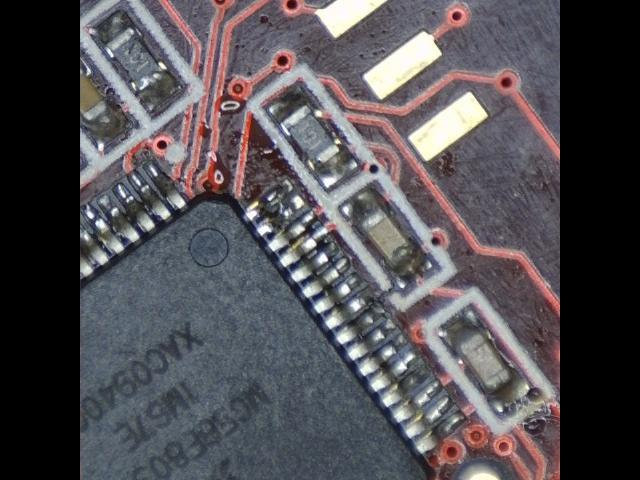Short_circuit: (243, 179, 305, 237)
